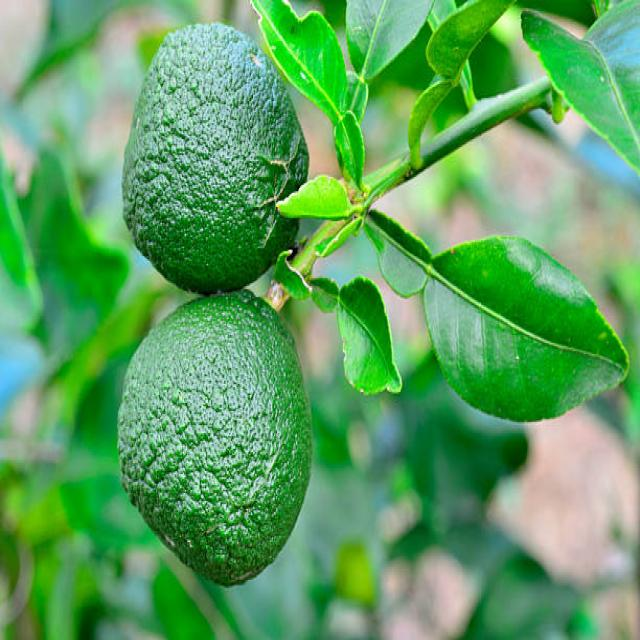Unripe: (117, 296, 312, 586), (121, 25, 309, 296)
